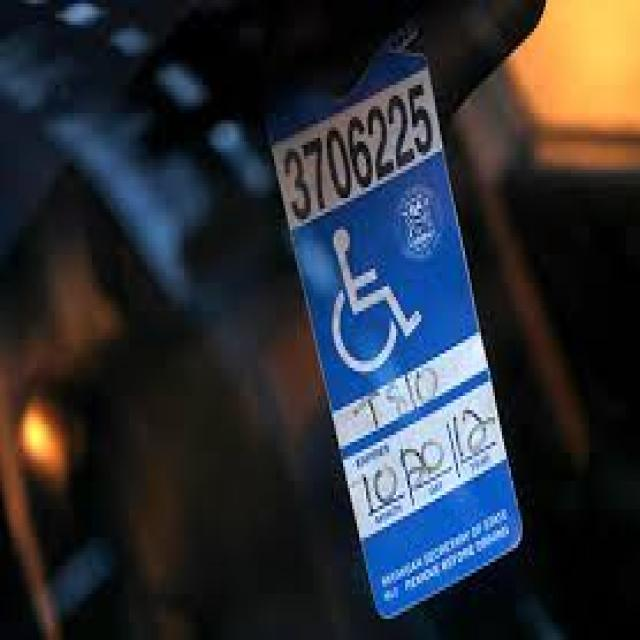car-handicap-placard: (330, 226, 423, 374)
